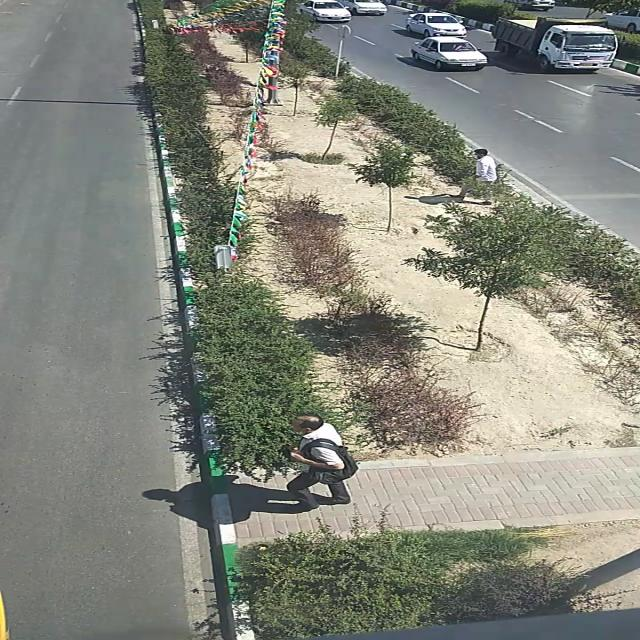car: (412, 39, 492, 69), (404, 10, 468, 38), (299, 2, 351, 24), (346, 1, 391, 17)
truck: (496, 15, 619, 71)
